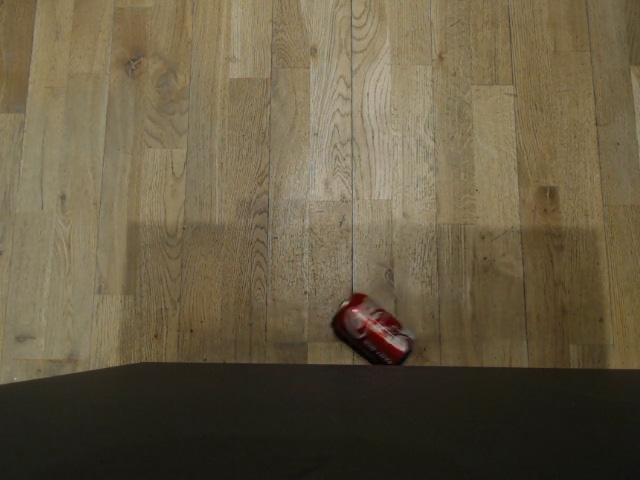coke: (328, 291, 415, 365)
